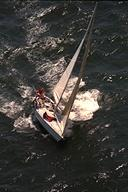sailboat: (31, 2, 100, 144)
water: (1, 143, 126, 190), (2, 2, 51, 86)
